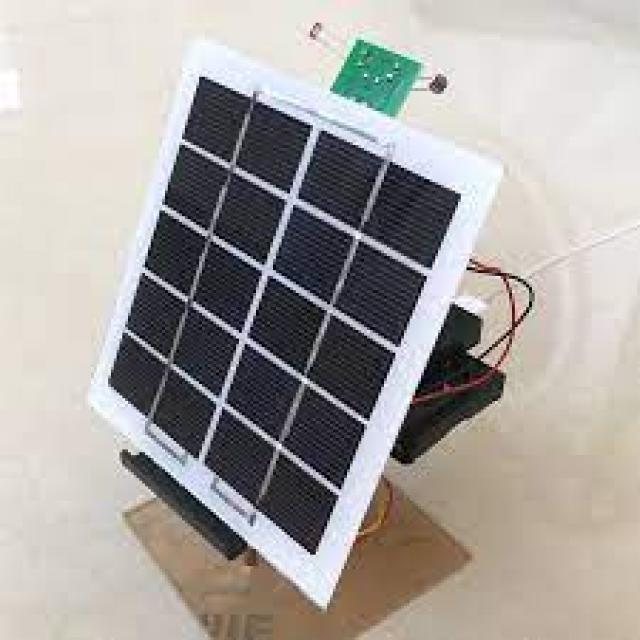no faulty: (100, 77, 454, 556)
